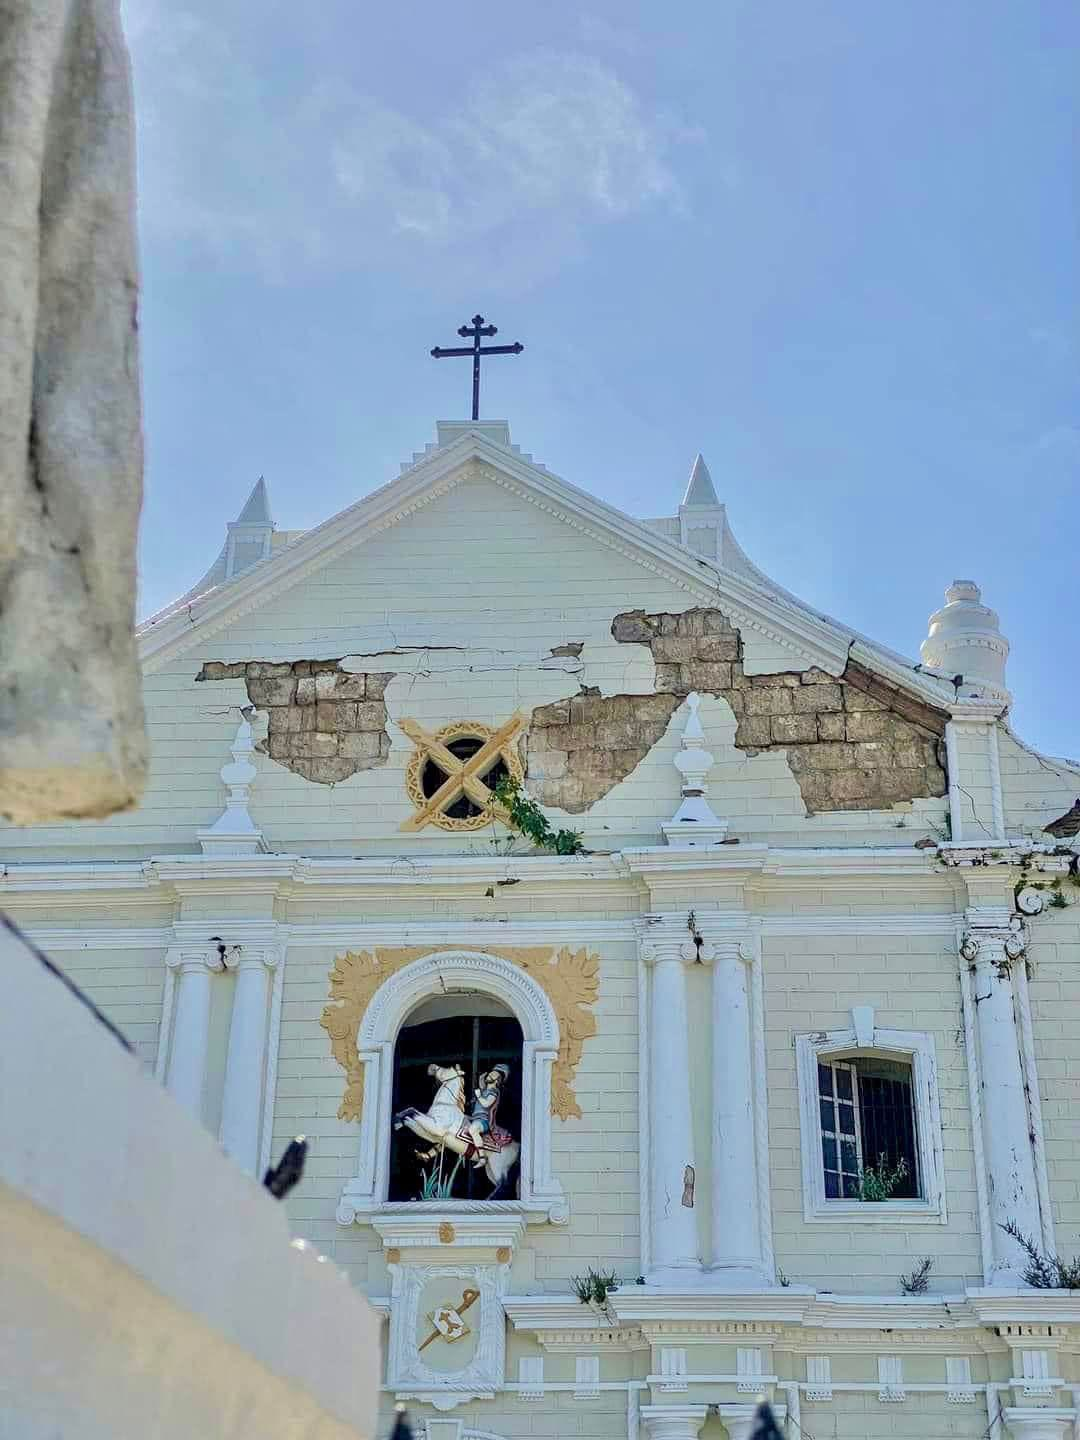crack: (188, 639, 412, 789), (526, 650, 687, 815), (729, 633, 862, 830)
